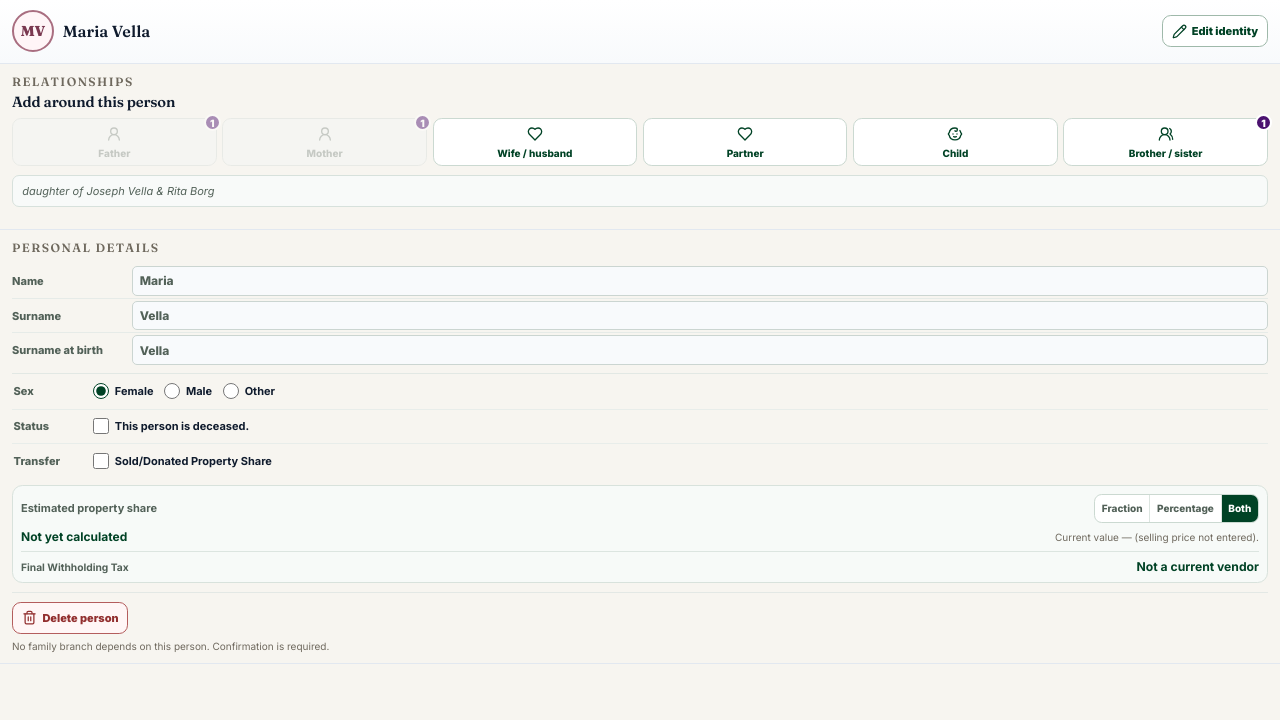
Test: PersonInspector › offers only opposite-sex cousins or more distant people as existing partners
What coordinates should you click on to do the following:
click the button "Partner"
I would click on:
 (745, 142)
Its box is [643,118,848,166].
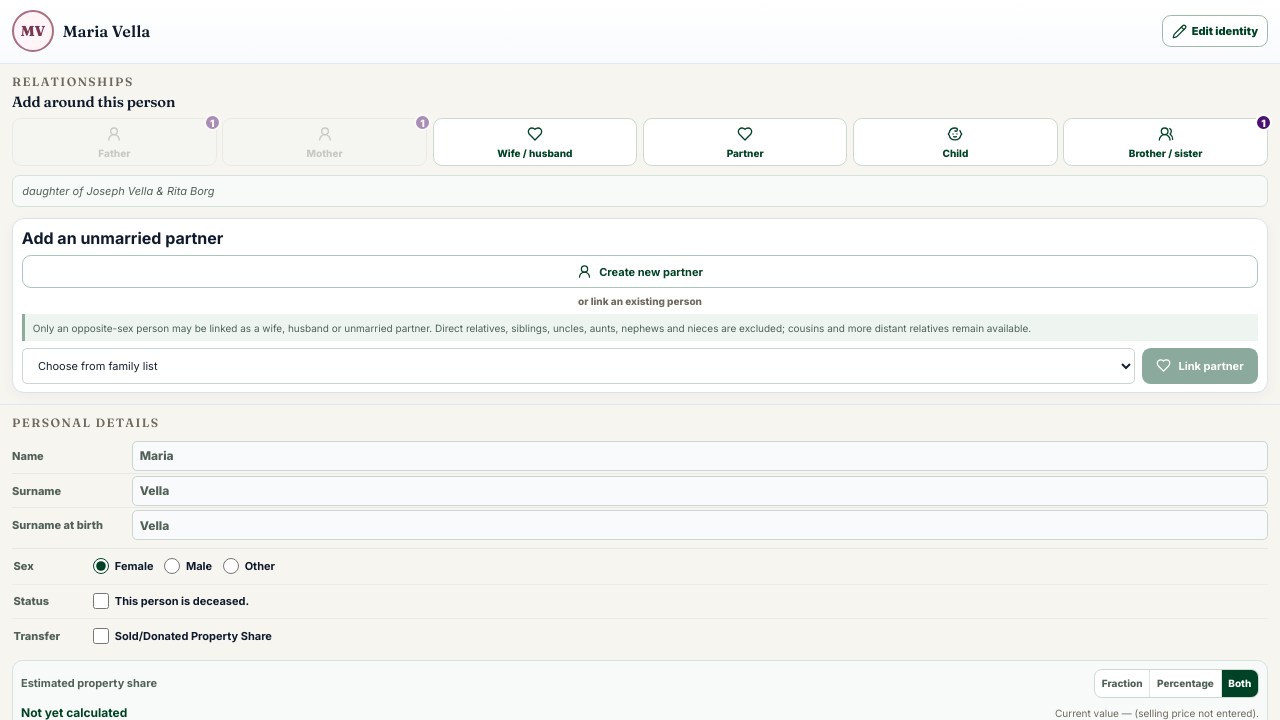
Now the text "cousins and more distant relatives remain available" is shown, box [435,322,1031,334]
What coordinates should you click on to do the following:
click the button "Wife / husband"
I would click on:
 (535, 142)
Its box is [432,118,637,166].
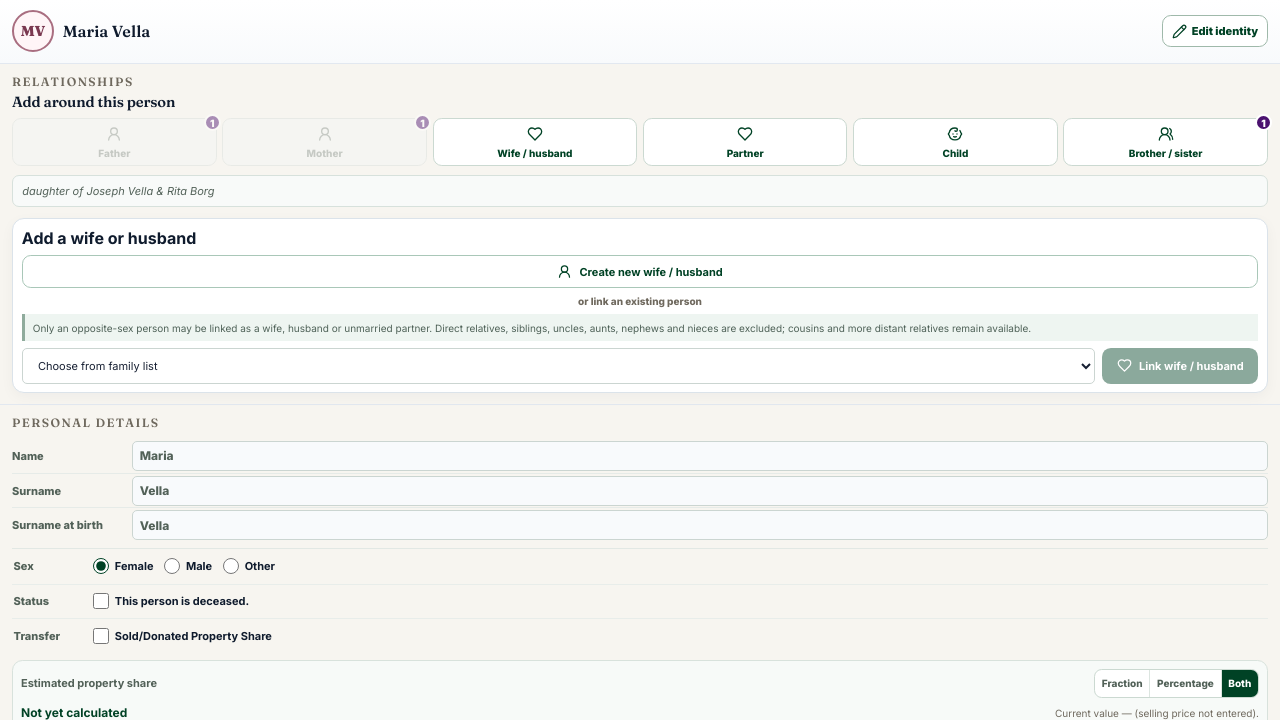
Now the text "Add a wife or husband" is shown, box [22,228,196,248]
